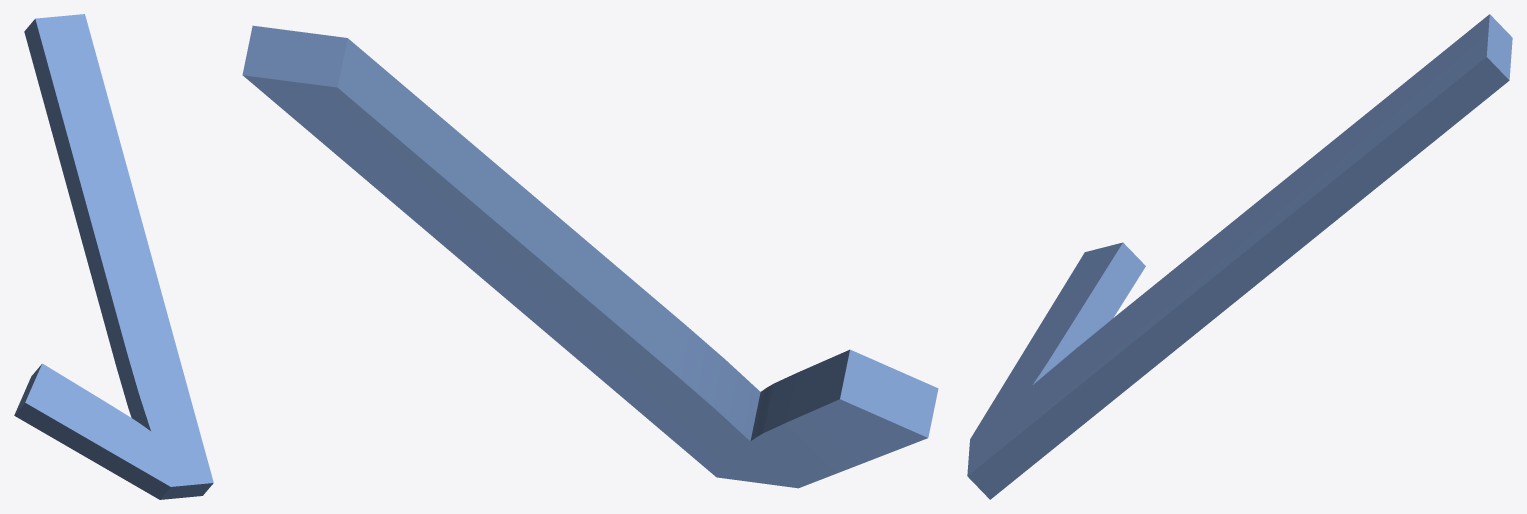
Rendered from New_Number_1.gltf.
3 renders of one model, left to right at view 1: azimuth 30°, elevation 25°; view 2: azimuth 150°, elevation 25°; view 3: azimuth 270°, elevation 25°, orthographic. The views are drawn at different scales.
Visible parts, largest first — view 1: Part 406; view 2: Part 406; view 3: Part 406.
Part boxes in pixels (box(x1,y1,x2,y2)): Part 406: box(14, 14, 213, 499); Part 406: box(242, 25, 938, 488); Part 406: box(967, 14, 1512, 499).
Bounding box in the file's own units: 0.00233 × 0.00377 × 0.00379.
